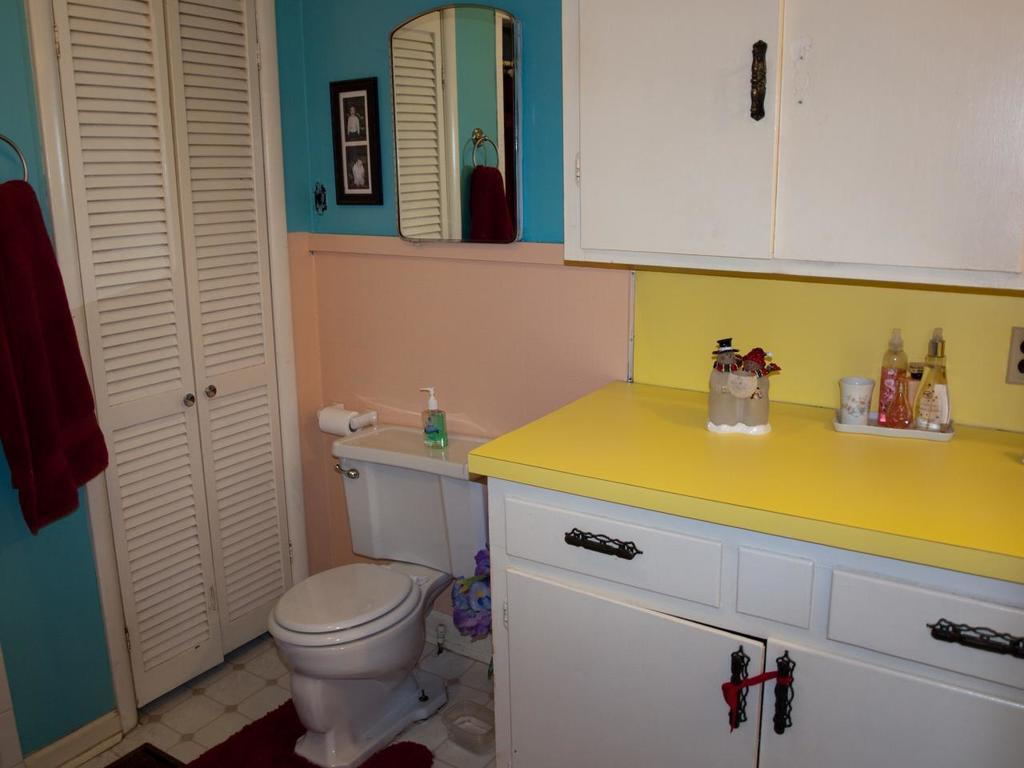door: (75, 24, 184, 670), (186, 25, 280, 584)
handle: (194, 374, 228, 406), (173, 378, 196, 412)
